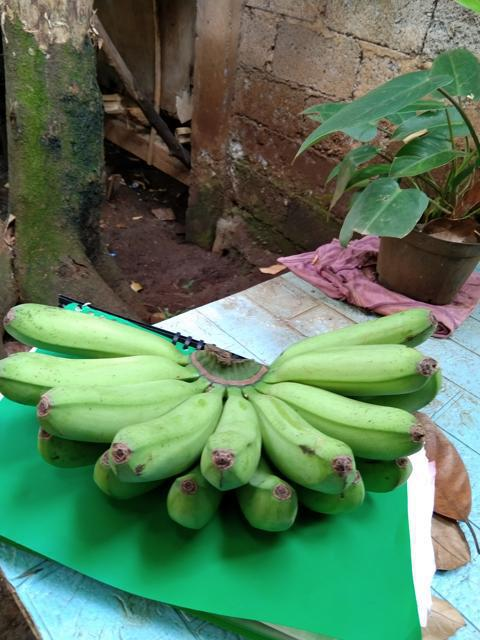freshunripe: (266, 381, 428, 464), (29, 363, 198, 441), (104, 376, 222, 480), (1, 293, 171, 358), (278, 306, 443, 361), (267, 337, 436, 386), (198, 389, 270, 490), (159, 459, 228, 533), (237, 467, 306, 538)
